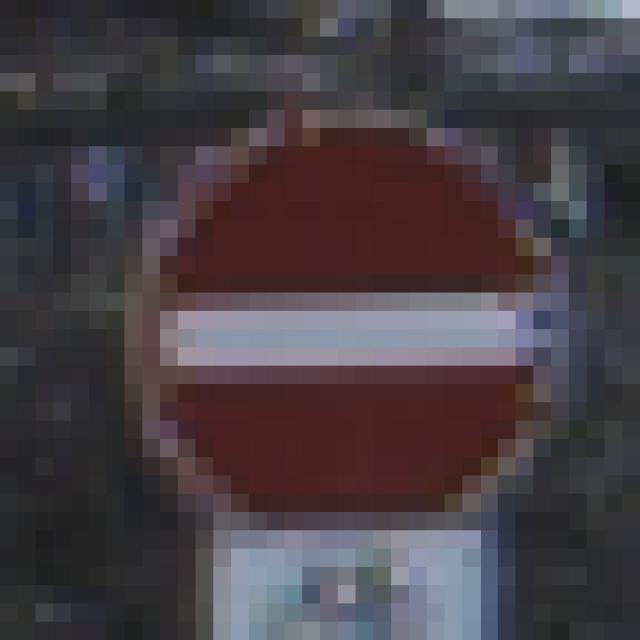No Entry: (108, 93, 552, 550)
